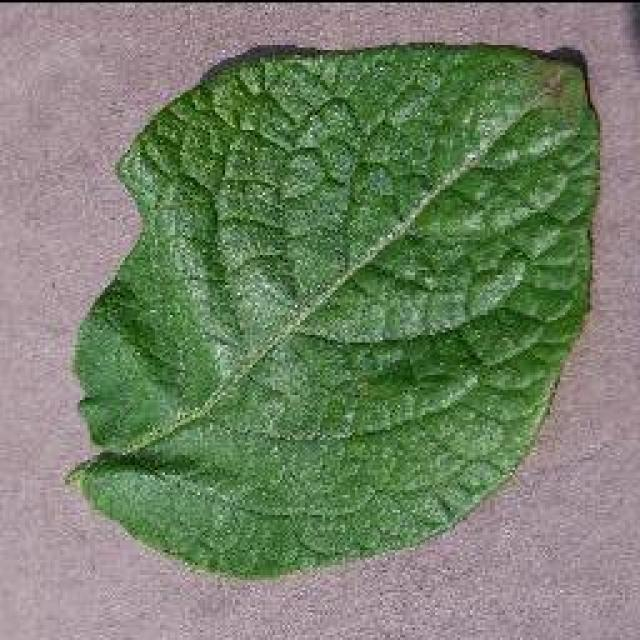Potato___healthy: (70, 45, 602, 580)
